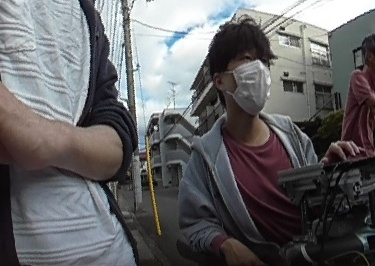person: (170, 18, 337, 266), (348, 32, 375, 190)
